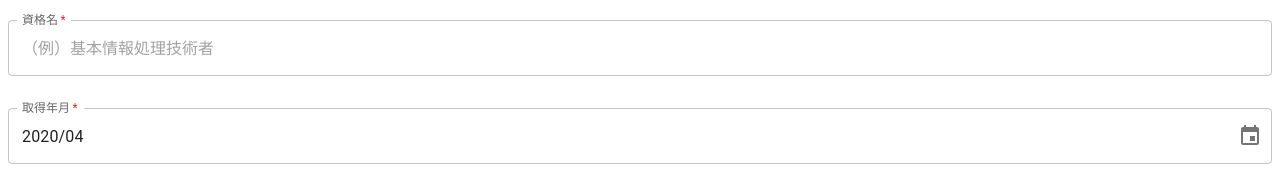
Test: CertificationSection › 資格名の候補には、資格のマスタを出すこと
Click the dropdown labelled "資格名 *" at (625, 48), box [17,29,1233,67]
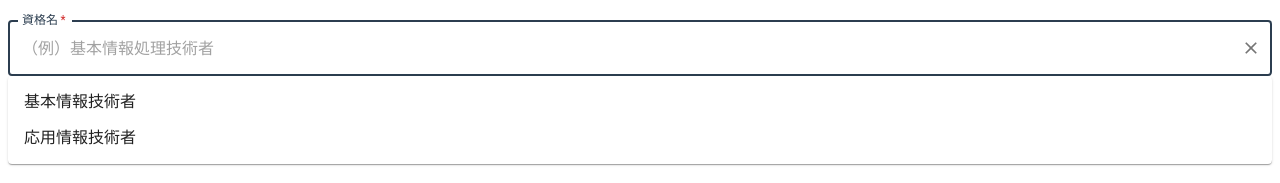
expect the options read "基本情報技術者", "応用情報技術者", in this order: met, box [24,92,136,111]; [24,128,136,147]
